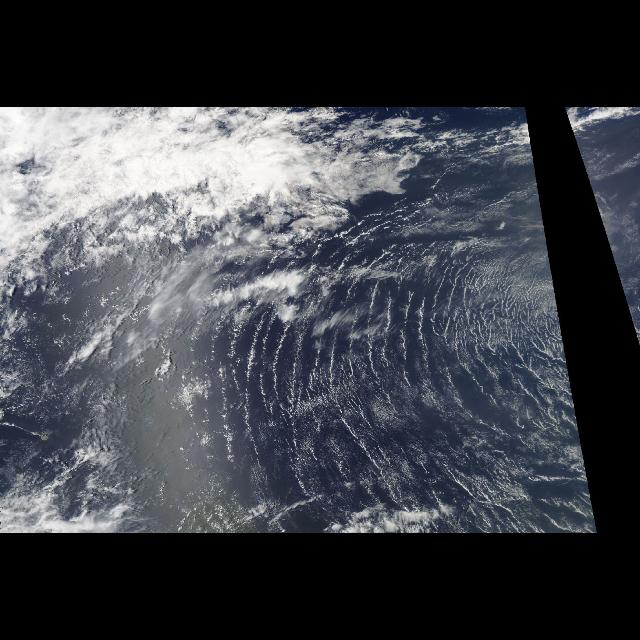Sugar: (256, 218, 578, 502)
